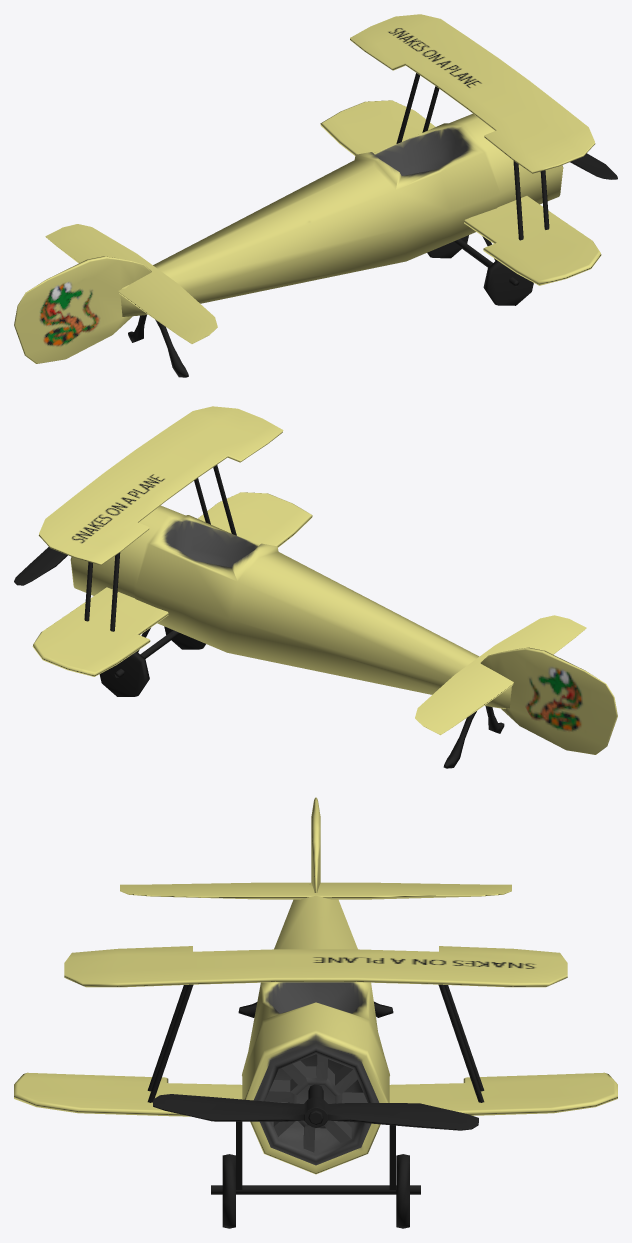
The model's file is modelPlane.fbx.
3 views of the same model, one above another, from view 1: azimuth 30°, elevation 25°; view 2: azimuth 150°, elevation 25°; view 3: azimuth 270°, elevation 25° (orthographic). The views are drawn at different scales.
Parts seen in each view (by area): view 1: base, frontWings, propellar; view 2: base, frontWings, propellar; view 3: base, frontWings, propellar.
Boxes of the visible parts, x1,y1,x2,y2 form: base: [14, 114, 563, 377]; frontWings: [320, 14, 601, 285]; propellar: [570, 153, 617, 179]; base: [70, 505, 617, 768]; frontWings: [32, 406, 312, 676]; propellar: [14, 547, 67, 585]; base: [120, 797, 511, 1228]; frontWings: [14, 946, 617, 1116]; propellar: [153, 1094, 478, 1130].
Bounding box in the file's own units: 31.43 × 11.05 × 22.18.
